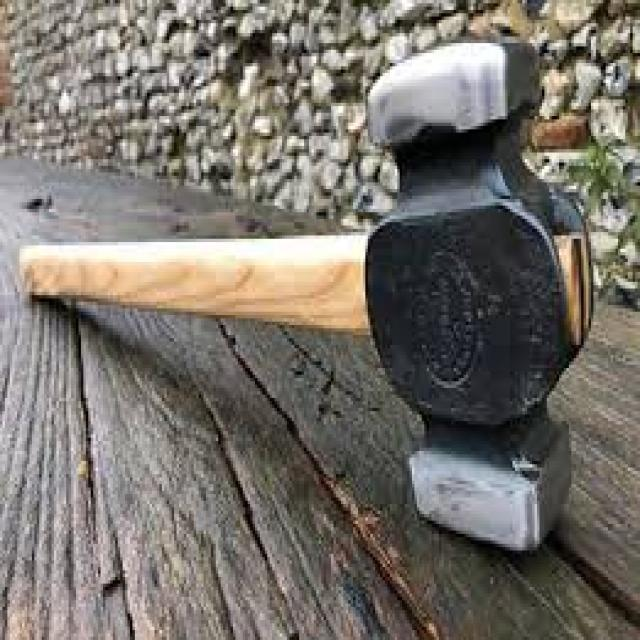hammer: (2, 30, 596, 564)
